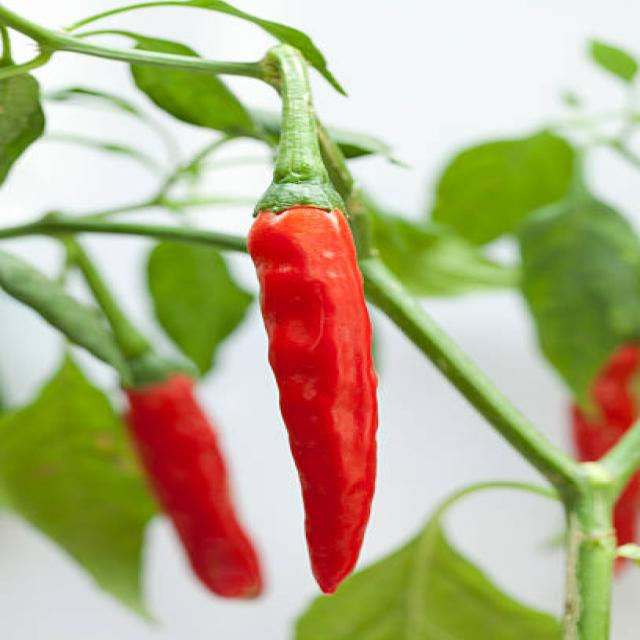Ripe: (249, 206, 376, 592)
